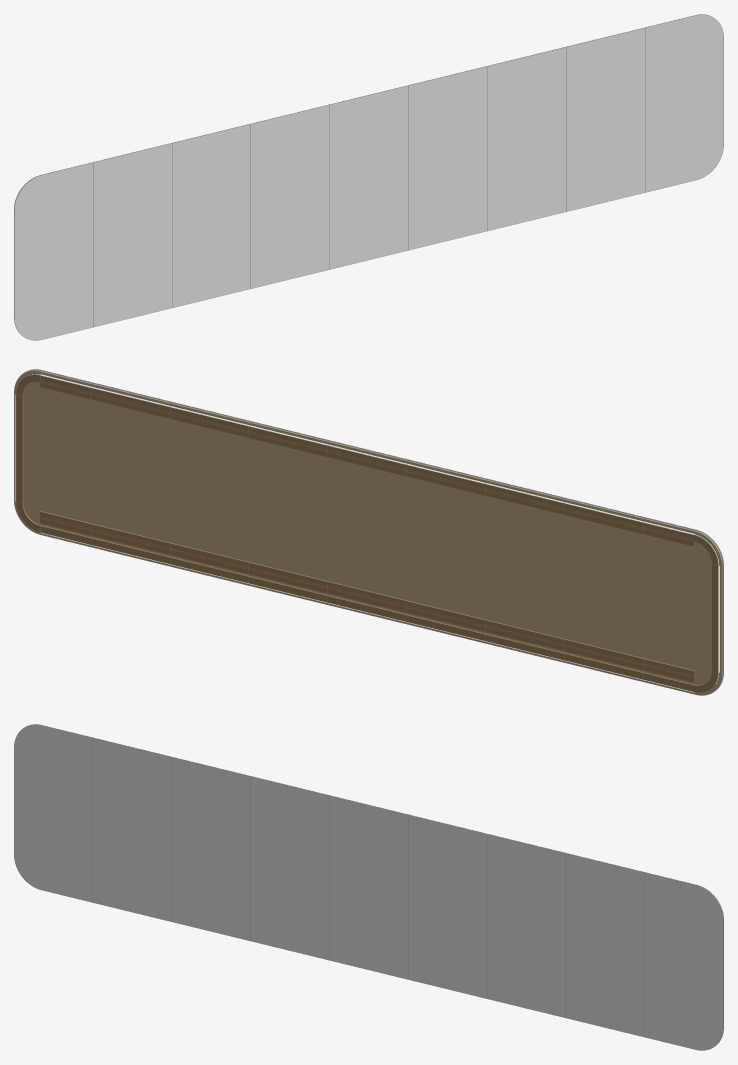
File: modell.glb
3 renders of one model, top to bottom at view 1: azimuth 30°, elevation 25°; view 2: azimuth 150°, elevation 25°; view 3: azimuth 330°, elevation 25°, orthographic.
Parts seen in each view (by area): view 1: 2026-196 speil; view 2: 2026-196 speil; view 3: 2026-196 speil.
Boxes of the visible parts, left/top/right/bottom form: 2026-196 speil: left=14, top=14, right=723, bottom=340; 2026-196 speil: left=14, top=369, right=723, bottom=695; 2026-196 speil: left=14, top=724, right=723, bottom=1050.
Bounding box in the file's own units: 9019 × 2003 × 45.37.
